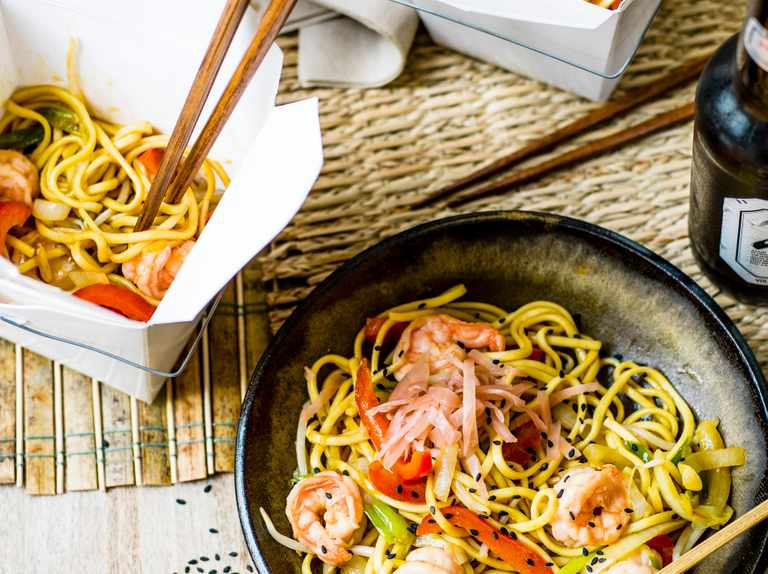Soba: (312, 276, 733, 574), (7, 69, 211, 344)
